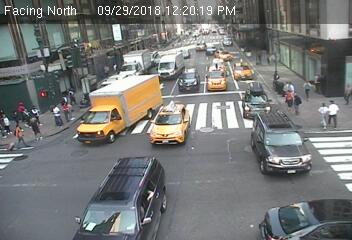car: (72, 157, 169, 240), (74, 73, 162, 143), (250, 111, 313, 176), (259, 198, 351, 240), (149, 102, 195, 146), (243, 81, 271, 118), (117, 52, 154, 79), (156, 52, 184, 78), (178, 65, 201, 92), (207, 63, 228, 92), (233, 60, 254, 79), (215, 48, 231, 60), (220, 36, 234, 49), (183, 47, 193, 58), (196, 40, 206, 50), (207, 48, 215, 55)
